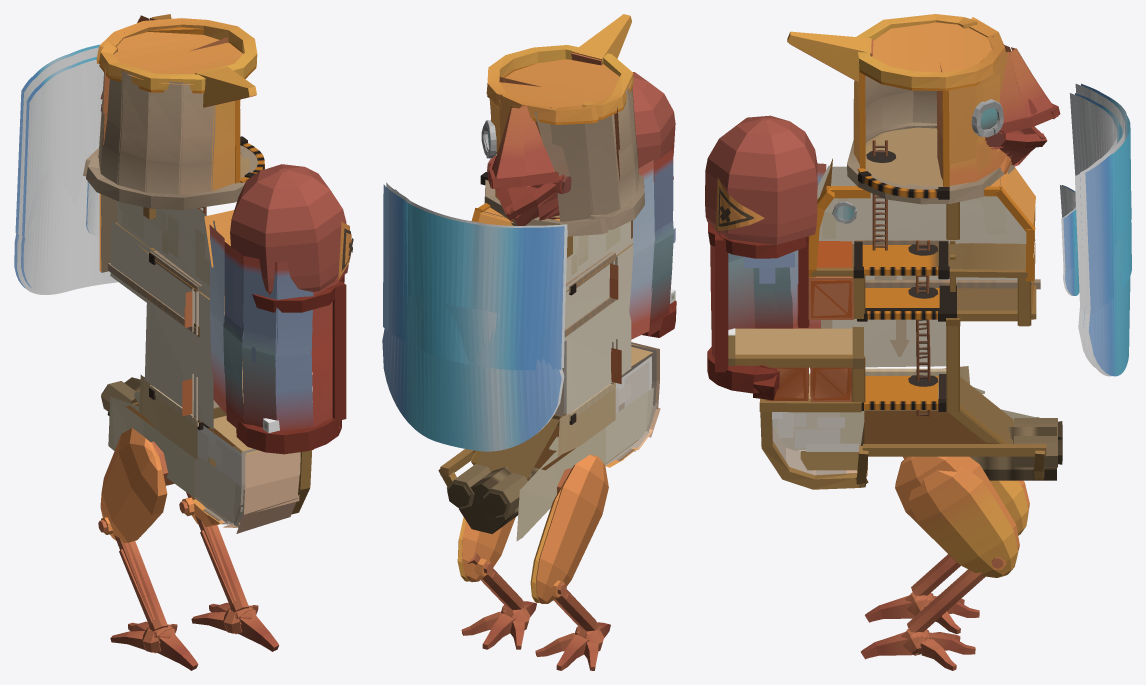
The model's file is Fx_shielddisappear.fbx.
3 views of the same model, side by side, from view 1: azimuth 30°, elevation 25°; view 2: azimuth 150°, elevation 25°; view 3: azimuth 270°, elevation 25° (orthographic). The views are drawn at different scales.
Parts seen in each view (by area): view 1: Robohead, ShieldLeave; view 2: Robohead, ShieldLeave; view 3: Robohead, ShieldLeave.
Part boxes in pixels (left/top/right/bottom): Robohead: left=83, top=14, right=353, bottom=670; ShieldLeave: left=14, top=44, right=203, bottom=294; Robohead: left=438, top=14, right=676, bottom=670; ShieldLeave: left=382, top=182, right=567, bottom=451; Robohead: left=705, top=14, right=1062, bottom=670; ShieldLeave: left=1060, top=83, right=1131, bottom=376.
Size of the model in its own units: 13.35 by 41.23 by 26.71.
